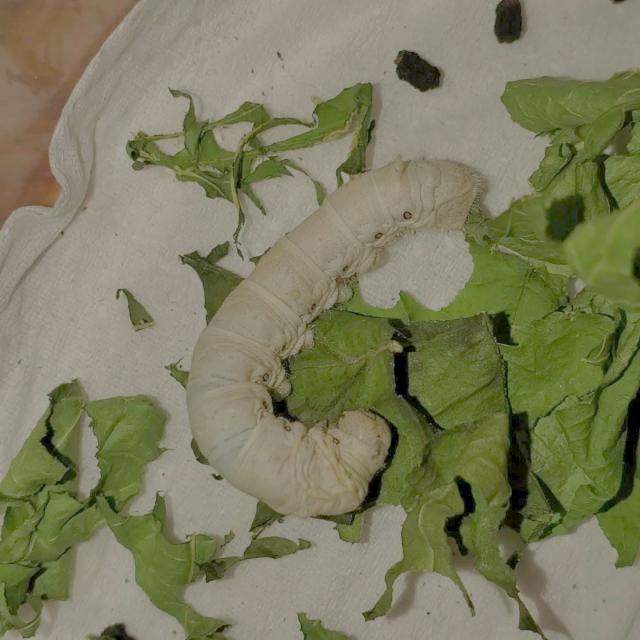Healthy: (179, 144, 491, 546)
